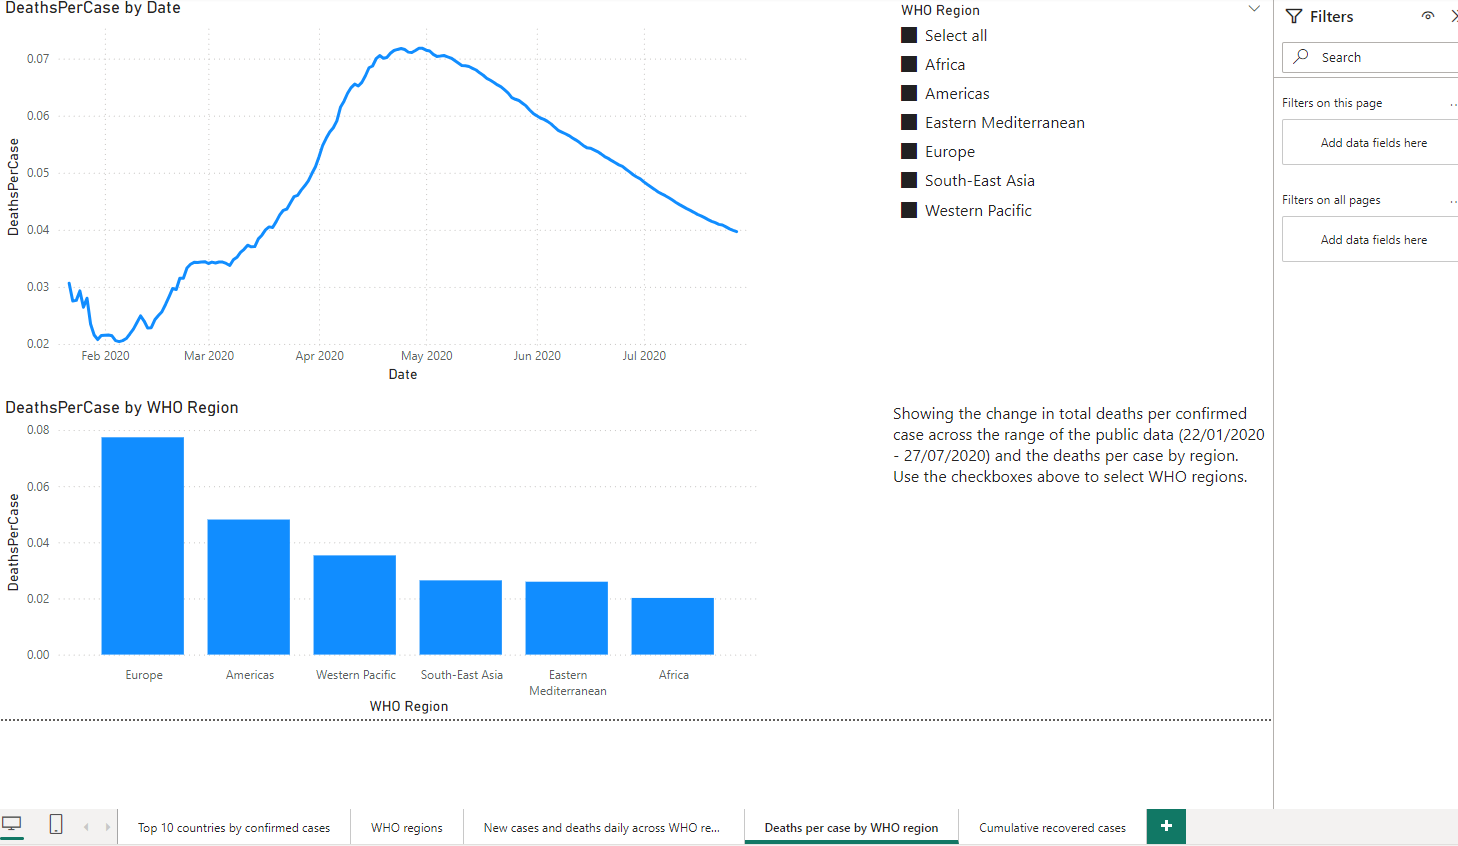

Layout of this report page (visuals, bound fields, positions):
{"tool":"powerbi","page":{"name":"Deaths per case by WHO region","canvas":[1280,720],"ordinal":3},"visuals":[{"type":"lineChart","fields":{"Category":["full_grouped.Date"],"Y":["full_grouped.DeathsPerCase"]},"box":[10.5,0,762,389.1],"z":0},{"type":"slicer","fields":{"Values":["full_grouped.WHO Region"]},"box":[895.5,0,384.5,360.1],"z":1000},{"type":"columnChart","fields":{"Category":["full_grouped.WHO Region"],"Y":["full_grouped.DeathsPerCase"]},"box":[10,399,762,321],"z":2000},{"type":"textbox","box":[896,399,384,321],"z":3000}]}

Visuals, with their boxes on the page's 1280x720 design canvas (x1, y1, x2, y2). These are canvas units, not pixel positions in the 1458x846 screenshot, which may show the page scaled, cropped or inside an application window:
lineChart - full_grouped.Date x full_grouped.DeathsPerCase: [10, 0, 772, 389]
slicer - full_grouped.WHO Region: [896, 0, 1280, 360]
columnChart - full_grouped.WHO Region x full_grouped.DeathsPerCase: [10, 399, 772, 720]
textbox: [896, 399, 1280, 720]
